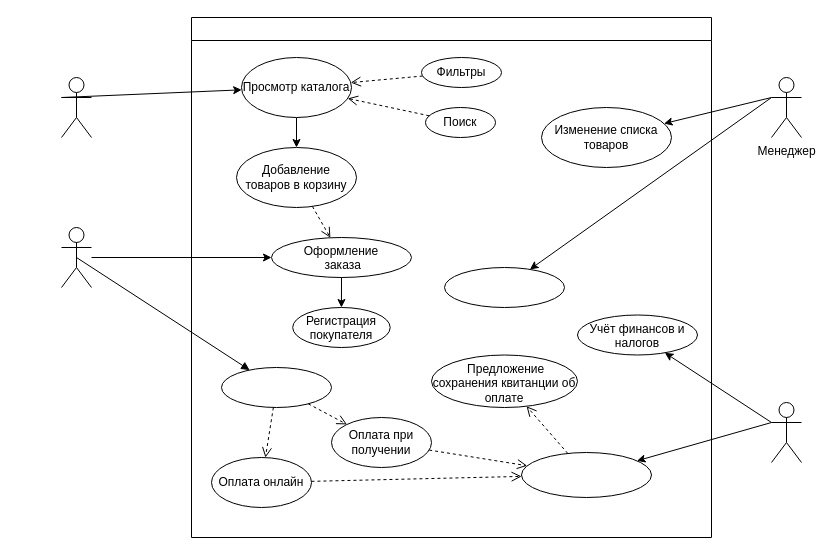
Some shapes in this 833 by 555 pixel diagram are drawn without their labels. Each missing label, with the centre of its shape:
Бухгалтер: the point at 786,432
Оплата заказа: the point at 276,387
Подтверждение оплаты заказа: the point at 586,475
Покупатель: the point at 76,257
Посетитель интернет магазина: the point at 76,107
Предоставление скидки: the point at 504,287
